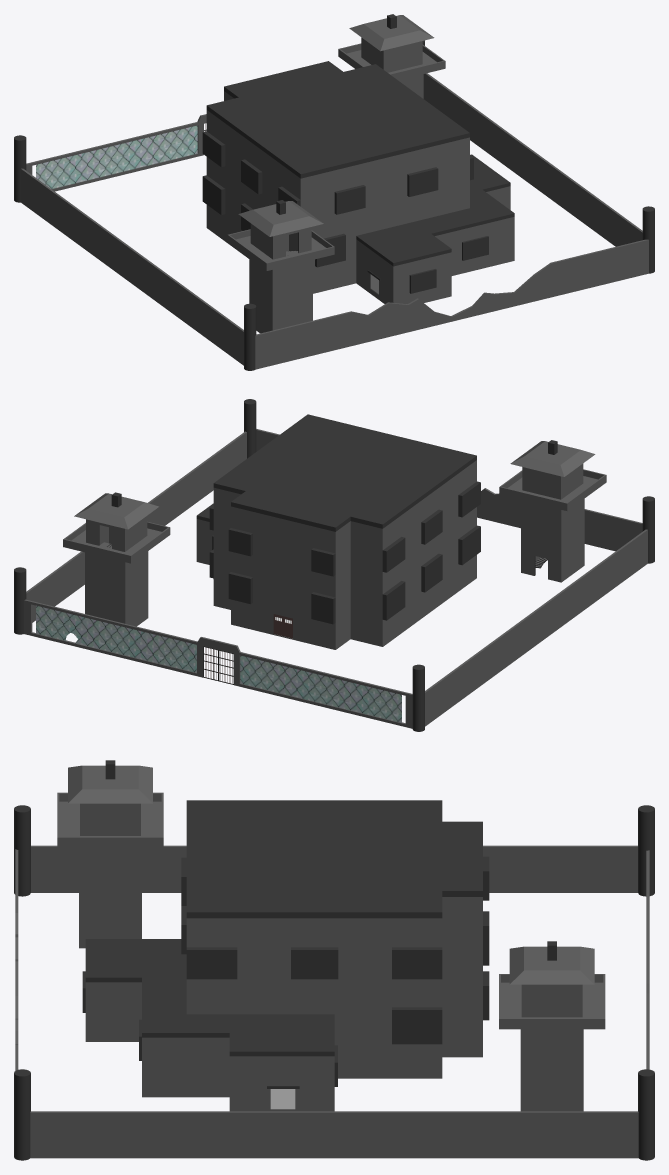
Rendered from PRISON.fbx.
3 renders of one model, top to bottom at view 1: azimuth 30°, elevation 25°; view 2: azimuth 150°, elevation 25°; view 3: azimuth 270°, elevation 25°, orthographic. The views are drawn at different scales.
Parts seen in each view (by area): view 1: Cube.050, Cube.209, Cube.170, OFFICE, Cube.161, Cube.181, Cube.116, Cube.128, Cylinder, Cube.051; view 2: Cube.050, Cube.209, Cube.170, Cube.116, Cube.161, Cube.181, Cube.128, Cube.051, Cylinder, OFFICE, PRISSON; view 3: Cube.050, Cube.209, Cube.170, OFFICE, Cube.161, Cube.181, Cube.128, Cylinder, Cube.051.
Boxes of the visible parts, <box> form: Cube.050: <box>21,73,648,369</box>; Cube.209: <box>206,61,469,178</box>; Cube.170: <box>202,91,473,267</box>; OFFICE: <box>356,154,514,304</box>; Cube.161: <box>227,200,334,333</box>; Cube.181: <box>338,14,445,98</box>; Cube.116: <box>36,125,197,188</box>; Cube.128: <box>202,175,469,266</box>; Cylinder: <box>14,40,654,370</box>; Cube.051: <box>206,205,356,292</box>; Cube.050: <box>24,429,647,728</box>; Cube.209: <box>213,414,476,531</box>; Cube.170: <box>209,460,480,597</box>; Cube.116: <box>36,605,401,722</box>; Cube.161: <box>499,440,606,582</box>; Cube.181: <box>63,492,170,626</box>; Cube.128: <box>209,524,480,624</box>; Cube.051: <box>213,555,476,648</box>; Cylinder: <box>14,399,654,731</box>; OFFICE: <box>196,503,213,564</box>; PRISSON: <box>213,577,476,649</box>; Cube.050: <box>15,845,649,1158</box>; Cube.209: <box>186,800,482,918</box>; Cube.170: <box>181,856,489,1007</box>; OFFICE: <box>82,939,337,1111</box>; Cube.161: <box>57,760,163,948</box>; Cube.181: <box>499,941,605,1111</box>; Cube.128: <box>186,955,489,1044</box>; Cylinder: <box>14,805,654,1160</box>; Cube.051: <box>334,1021,482,1077</box>.
Size of the model in its own units: 4066 by 1212 by 4062.
